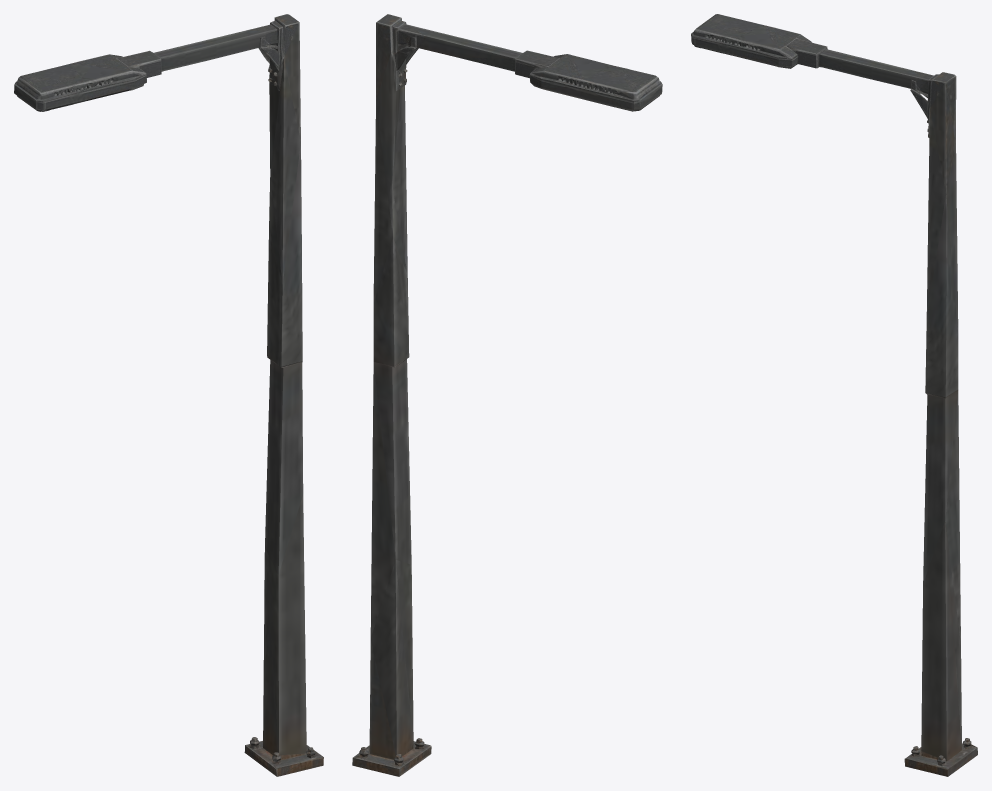
File: street_lamp_2000.glb
The picture shows the model from 3 angles, left to right: view 1: azimuth 30°, elevation 25°; view 2: azimuth 150°, elevation 25°; view 3: azimuth 330°, elevation 25°; orthographic projection. The views are drawn at different scales.
Parts seen in each view (by area): view 1: output_unwrapped; view 2: output_unwrapped; view 3: output_unwrapped.
Part boxes in pixels (bbox=[...]): output_unwrapped: bbox=[14, 14, 323, 776]; output_unwrapped: bbox=[352, 14, 662, 776]; output_unwrapped: bbox=[691, 14, 977, 776].
Bounding box in the file's own units: 2.49 × 6.2 × 0.4935.
Materials: 1 (1 with a texture image).
